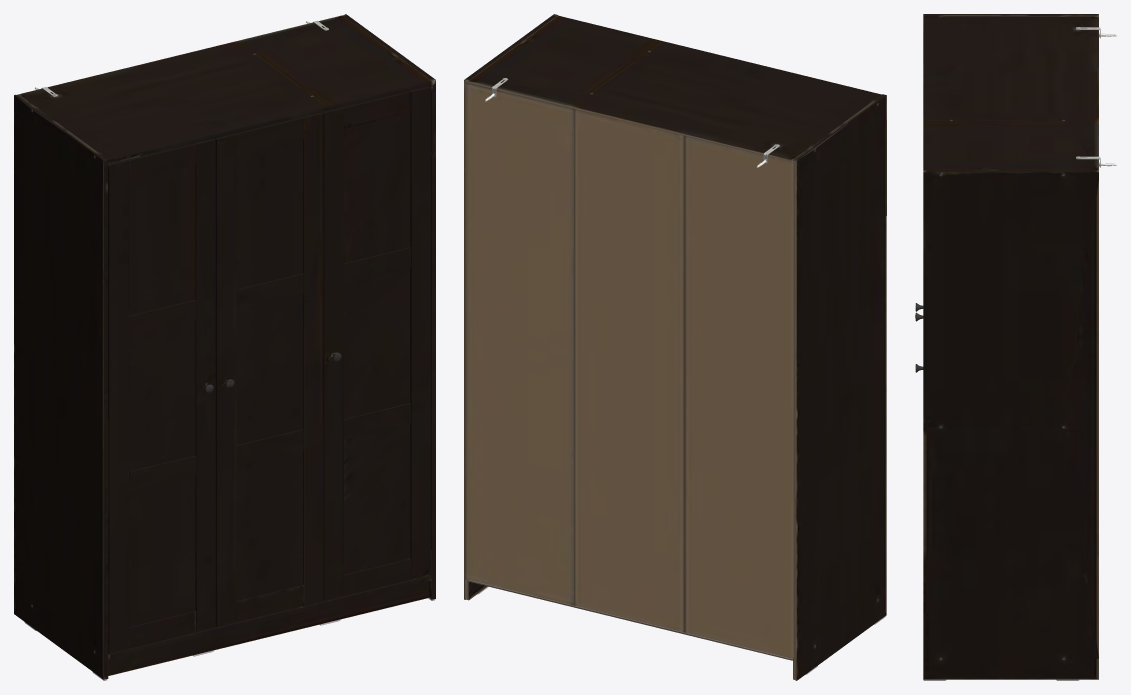
3 renders of one model, left to right at view 1: azimuth 30°, elevation 25°; view 2: azimuth 150°, elevation 25°; view 3: azimuth 270°, elevation 25°, orthographic. The views are drawn at different scales.
Parts seen in each view (by area): view 1: 70453762-RAKKESTAD001; view 2: 70453762-RAKKESTAD001; view 3: 70453762-RAKKESTAD001.
Part boxes in pixels (x1,y1,x2,y2): 70453762-RAKKESTAD001: (14,14,435,680); 70453762-RAKKESTAD001: (464,14,886,680); 70453762-RAKKESTAD001: (915,14,1116,680).
Bounding box in the file's own units: 1.17 × 1.76 × 0.6301.
Materials: 1 (1 with a texture image).
